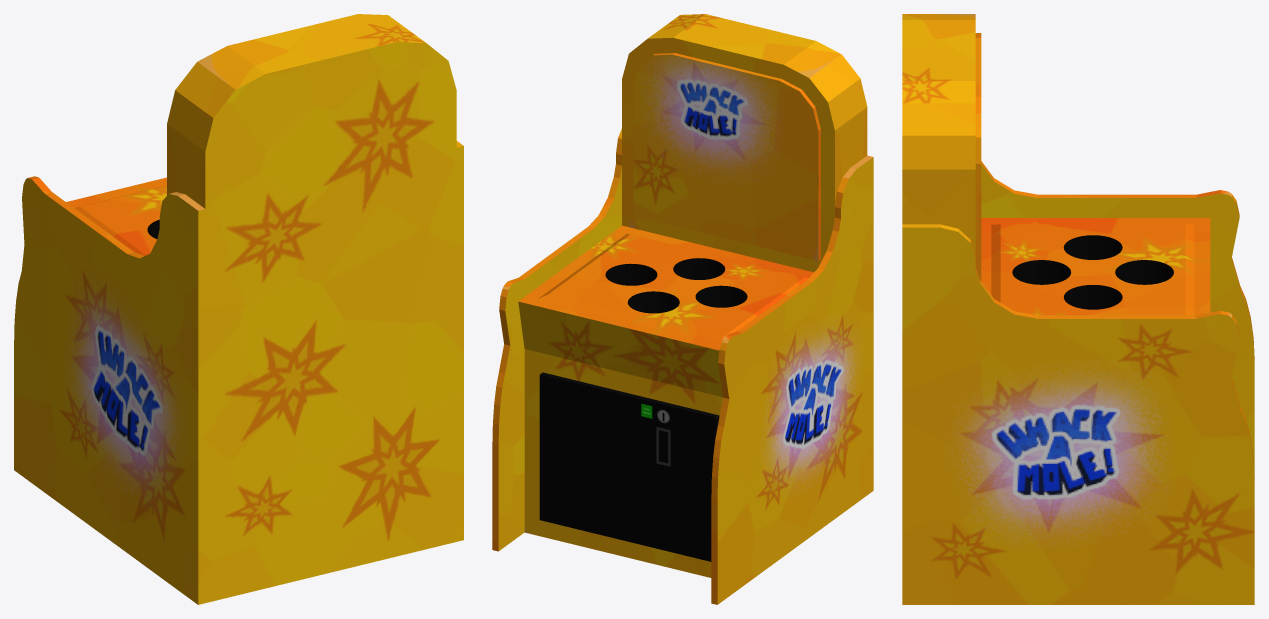
Rendered from BetterArcadeMachine-4_holes.glb.
3 renders of one model, left to right at view 1: azimuth 30°, elevation 25°; view 2: azimuth 150°, elevation 25°; view 3: azimuth 270°, elevation 25°, orthographic. The views are drawn at different scales.
Parts seen in each view (by area): view 1: Cube; view 2: Cube; view 3: Cube.
Part boxes in pixels (<box>): Cube: <box>14,14,463,604</box>; Cube: <box>492,14,873,604</box>; Cube: <box>902,14,1254,604</box>.
Bounding box in the file's own units: 2.01 × 3.7 × 2.4.
Materials: 1 (1 with a texture image).
